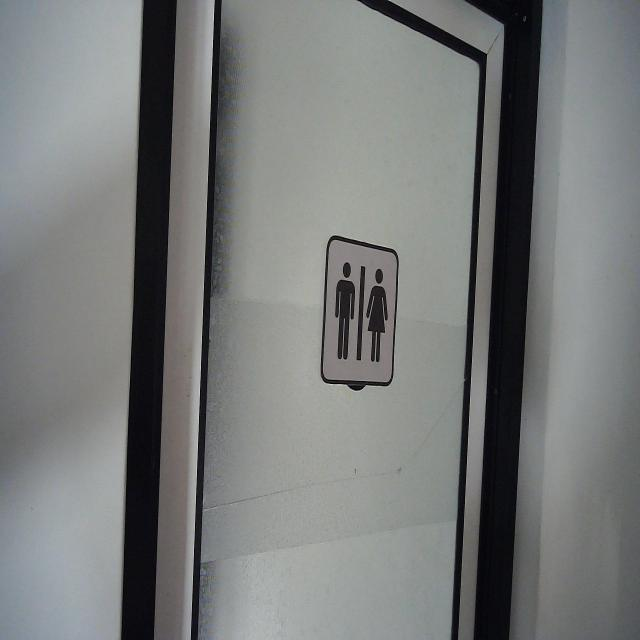restroom: (318, 235, 401, 389)
